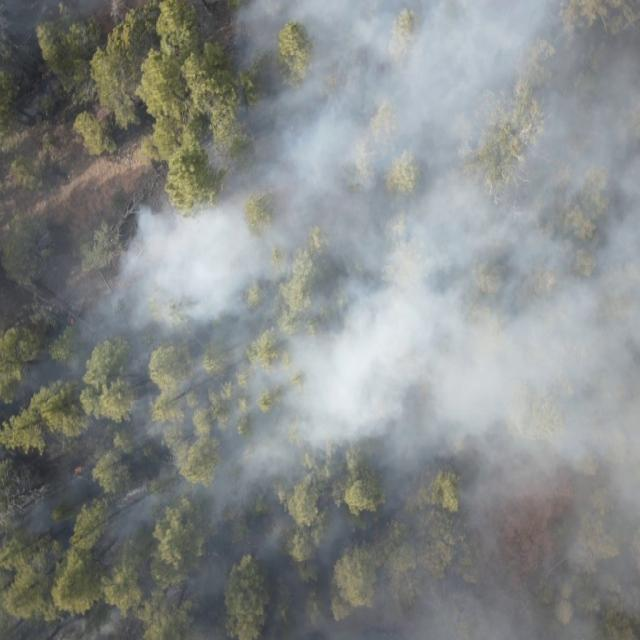fire: (72, 464, 89, 484), (67, 312, 76, 327)
smoke: (0, 196, 640, 640), (191, 0, 640, 196)
